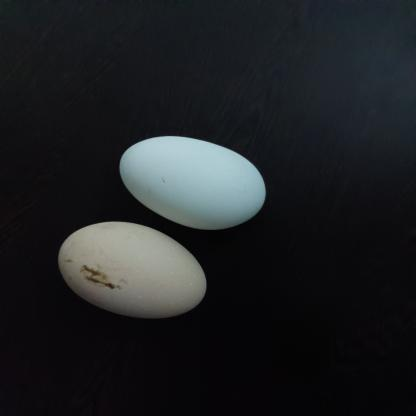egg: (50, 220, 218, 330), (116, 130, 280, 240)
